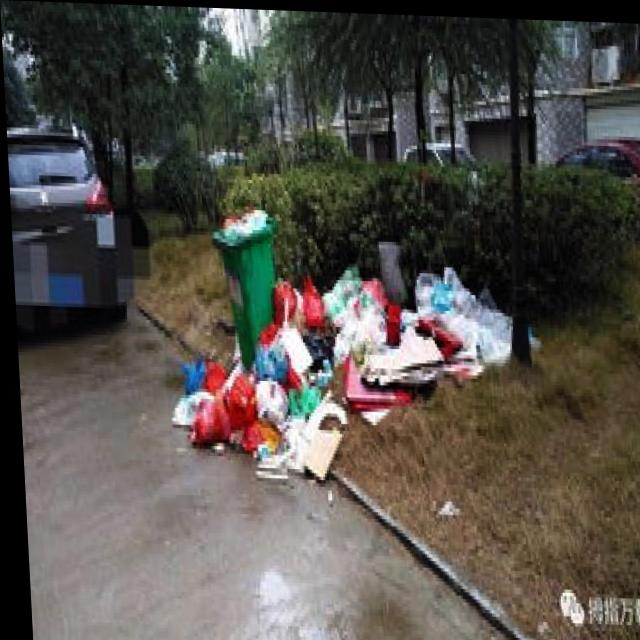garbage: (156, 225, 514, 483)
overflow: (205, 197, 280, 367)
